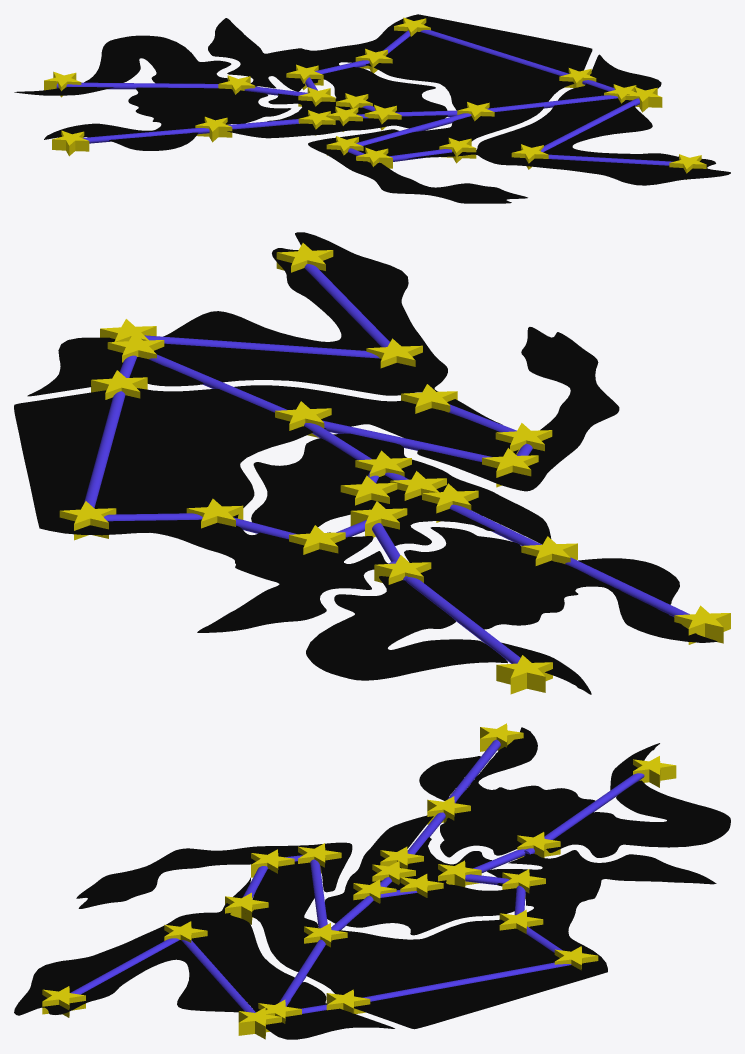
Rendered from Oushi-za.glb.
The picture shows the model from 3 angles, top to bottom: view 1: azimuth 30°, elevation 25°; view 2: azimuth 150°, elevation 25°; view 3: azimuth 270°, elevation 25°; orthographic projection. The views are drawn at different scales.
Parts seen in each view (by area): view 1: トレース, 円柱.016, 円柱, 円柱.009, 円柱.013, 円.020, 円柱.003, 円柱.017, 円柱.011, 円.009, 円.008, 円.019 (+19 smaller); view 2: トレース, 円柱.017, 円柱.016, 円.006, 円柱, 円柱.013, 円.020, 円柱.009, 円柱.003, 円柱.011, 円.004, 円.001 (+18 smaller); view 3: トレース, 円柱, 円柱.016, 円.008, 円.006, 円柱.011, 円柱.017, 円.019, 円.018, 円.020, 円.004, 円柱.009 (+16 smaller).
Boxes of the visible parts, x1,y1,x2,y2 form: トレース: (14,14,730,203); 円柱.016: (56,82,252,89); 円柱: (420,30,569,75); 円柱.009: (82,128,209,143); 円柱.013: (356,113,471,145); 円.020: (52,130,89,156); 円柱.003: (486,95,617,111); 円柱.017: (541,98,639,152); 円柱.011: (548,154,673,165); 円.009: (195,116,232,142); 円.008: (625,87,662,112); 円.019: (439,138,476,163); トレース: (14,232,717,694); 円柱.017: (144,335,379,358); 円柱.016: (389,561,520,663); 円.006: (496,655,552,694); 円柱: (84,391,125,507); 円柱.013: (322,420,492,461); 円.020: (674,605,730,644); 円柱.009: (565,557,689,617); 円柱.003: (149,354,286,412); 円柱.011: (304,264,389,347); 円.004: (350,501,407,537); 円.001: (59,501,116,540); トレース: (14,727,730,1039); 円柱: (363,962,571,1001); 円柱.016: (524,773,644,856); 円.008: (238,1007,281,1039); 円.006: (633,756,676,787); 円柱.011: (70,938,179,994); 円柱.017: (181,940,255,1012); 円.019: (225,892,268,924); 円.018: (42,986,85,1017); 円.020: (480,723,523,751); 円.004: (438,860,481,887); 円柱.009: (447,739,500,803).
Size of the model in its own units: 30.71 by 0.5973 by 29.77.
